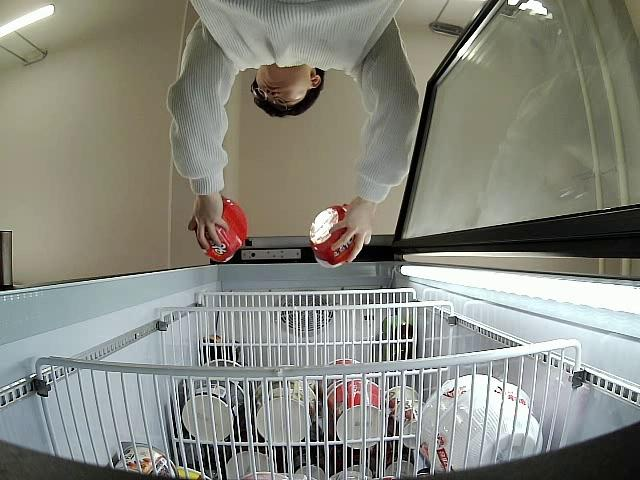00_hand: (330, 204, 373, 263), (187, 194, 229, 251)
10_wangTtukkeong: (309, 206, 363, 267), (197, 197, 247, 262)
